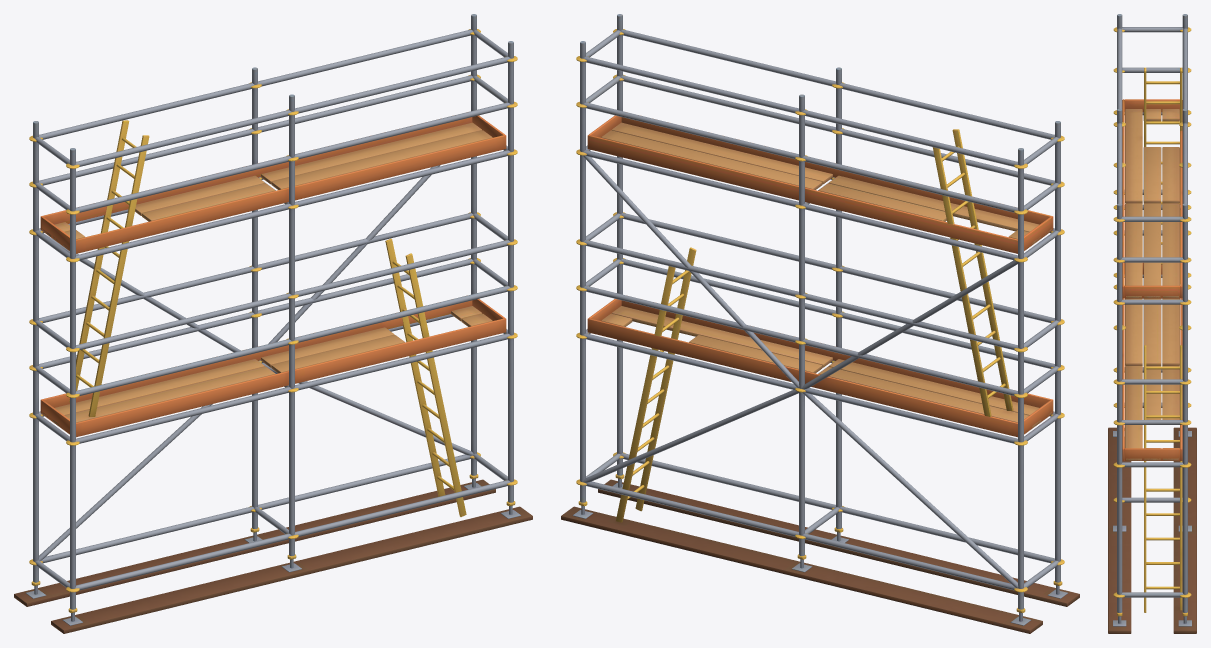
Rendered from scaffolding.glb.
The picture shows the model from 3 angles, left to right: view 1: azimuth 30°, elevation 25°; view 2: azimuth 150°, elevation 25°; view 3: azimuth 270°, elevation 25°; orthographic projection. The views are drawn at different scales.
Parts seen in each view (by area): view 1: scaffolding_body; view 2: scaffolding_body; view 3: scaffolding_body.
Boxes of the visible parts, bbox=[...] form: scaffolding_body: bbox=[14, 14, 532, 633]; scaffolding_body: bbox=[561, 14, 1079, 633]; scaffolding_body: bbox=[1108, 14, 1196, 633].
Size of the model in its own units: 5.36 by 5.2 by 0.99.
1 material, 1 textured.
